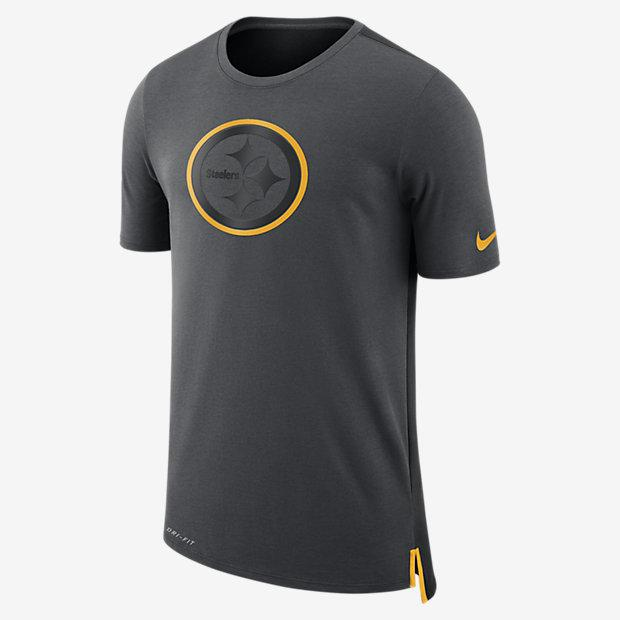teeshirt: (95, 7, 526, 604)
